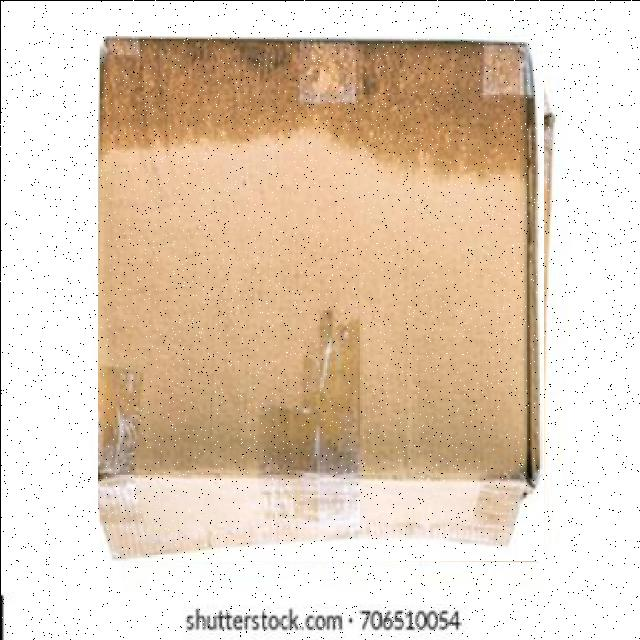defect: (97, 35, 543, 560)
